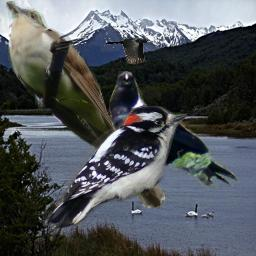Crow: (108, 71, 240, 190), (106, 37, 152, 64)
Cuckoo: (6, 1, 166, 209)
Woodpecker: (42, 106, 187, 229)
